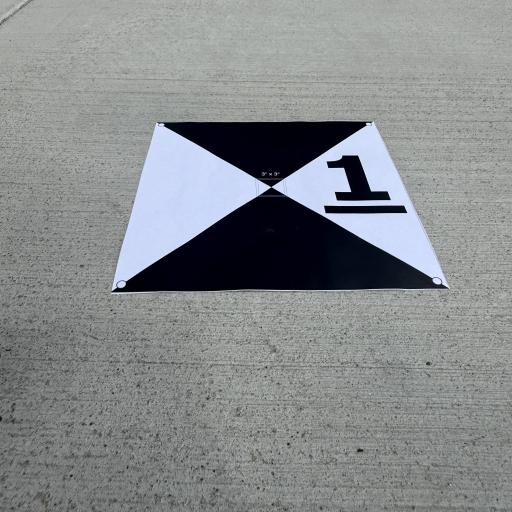target1: (111, 114, 460, 308)
